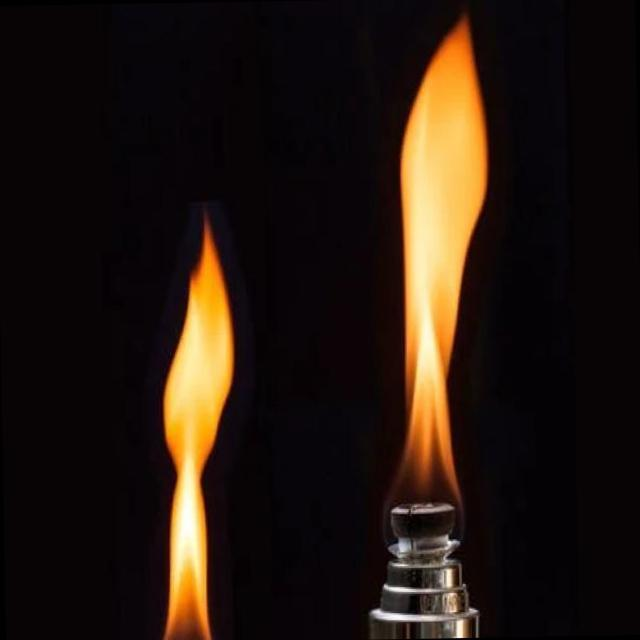Fire: (380, 10, 505, 566), (148, 203, 254, 640)
